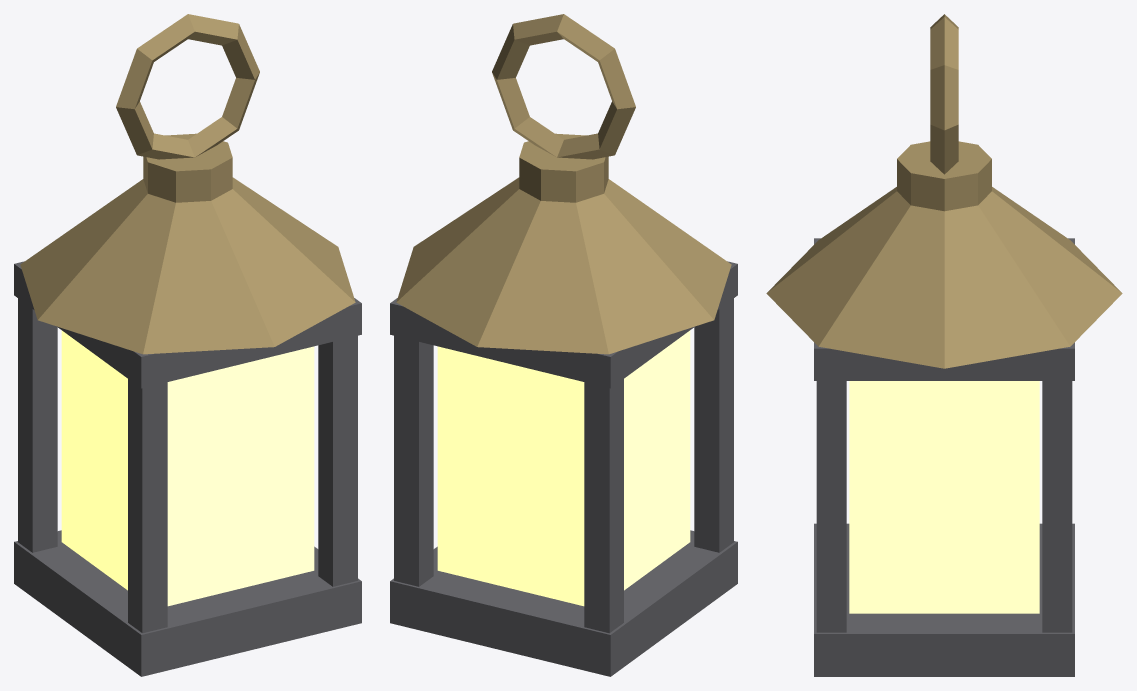
File: item_lantern.glb
3 views of the same model, side by side, from view 1: azimuth 30°, elevation 25°; view 2: azimuth 150°, elevation 25°; view 3: azimuth 270°, elevation 25° (orthographic). The views are drawn at different scales.
Parts seen in each view (by area): view 1: Item_lantern; view 2: Item_lantern; view 3: Item_lantern.
Boxes of the visible parts, x1,y1,x2,y2 form: Item_lantern: [14, 14, 361, 676]; Item_lantern: [390, 14, 737, 676]; Item_lantern: [766, 14, 1122, 676].
Size of the model in its own units: 0.3 by 0.562 by 0.3.
